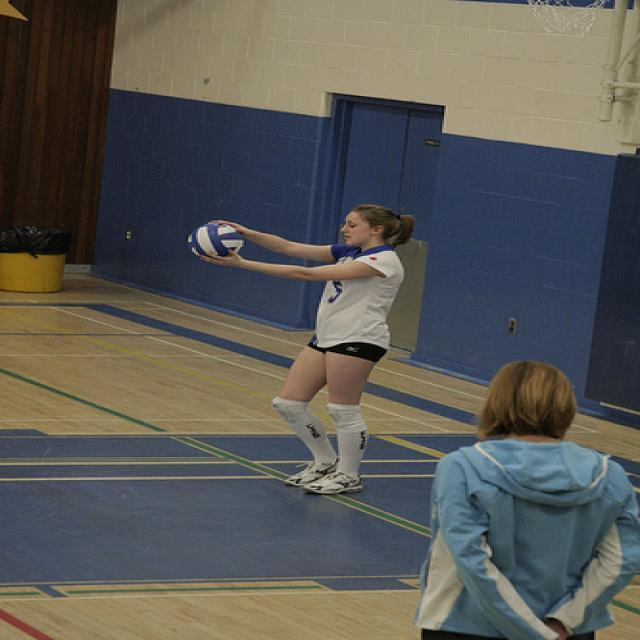volleyball: (189, 224, 243, 256)
